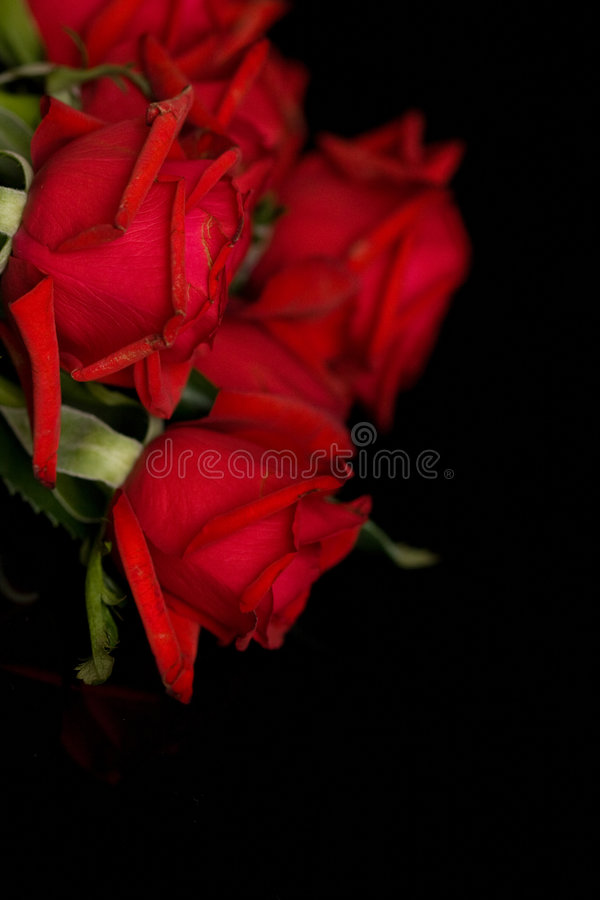RedRose: (232, 133, 468, 415), (112, 413, 383, 655), (40, 109, 226, 404), (49, 20, 296, 87)
